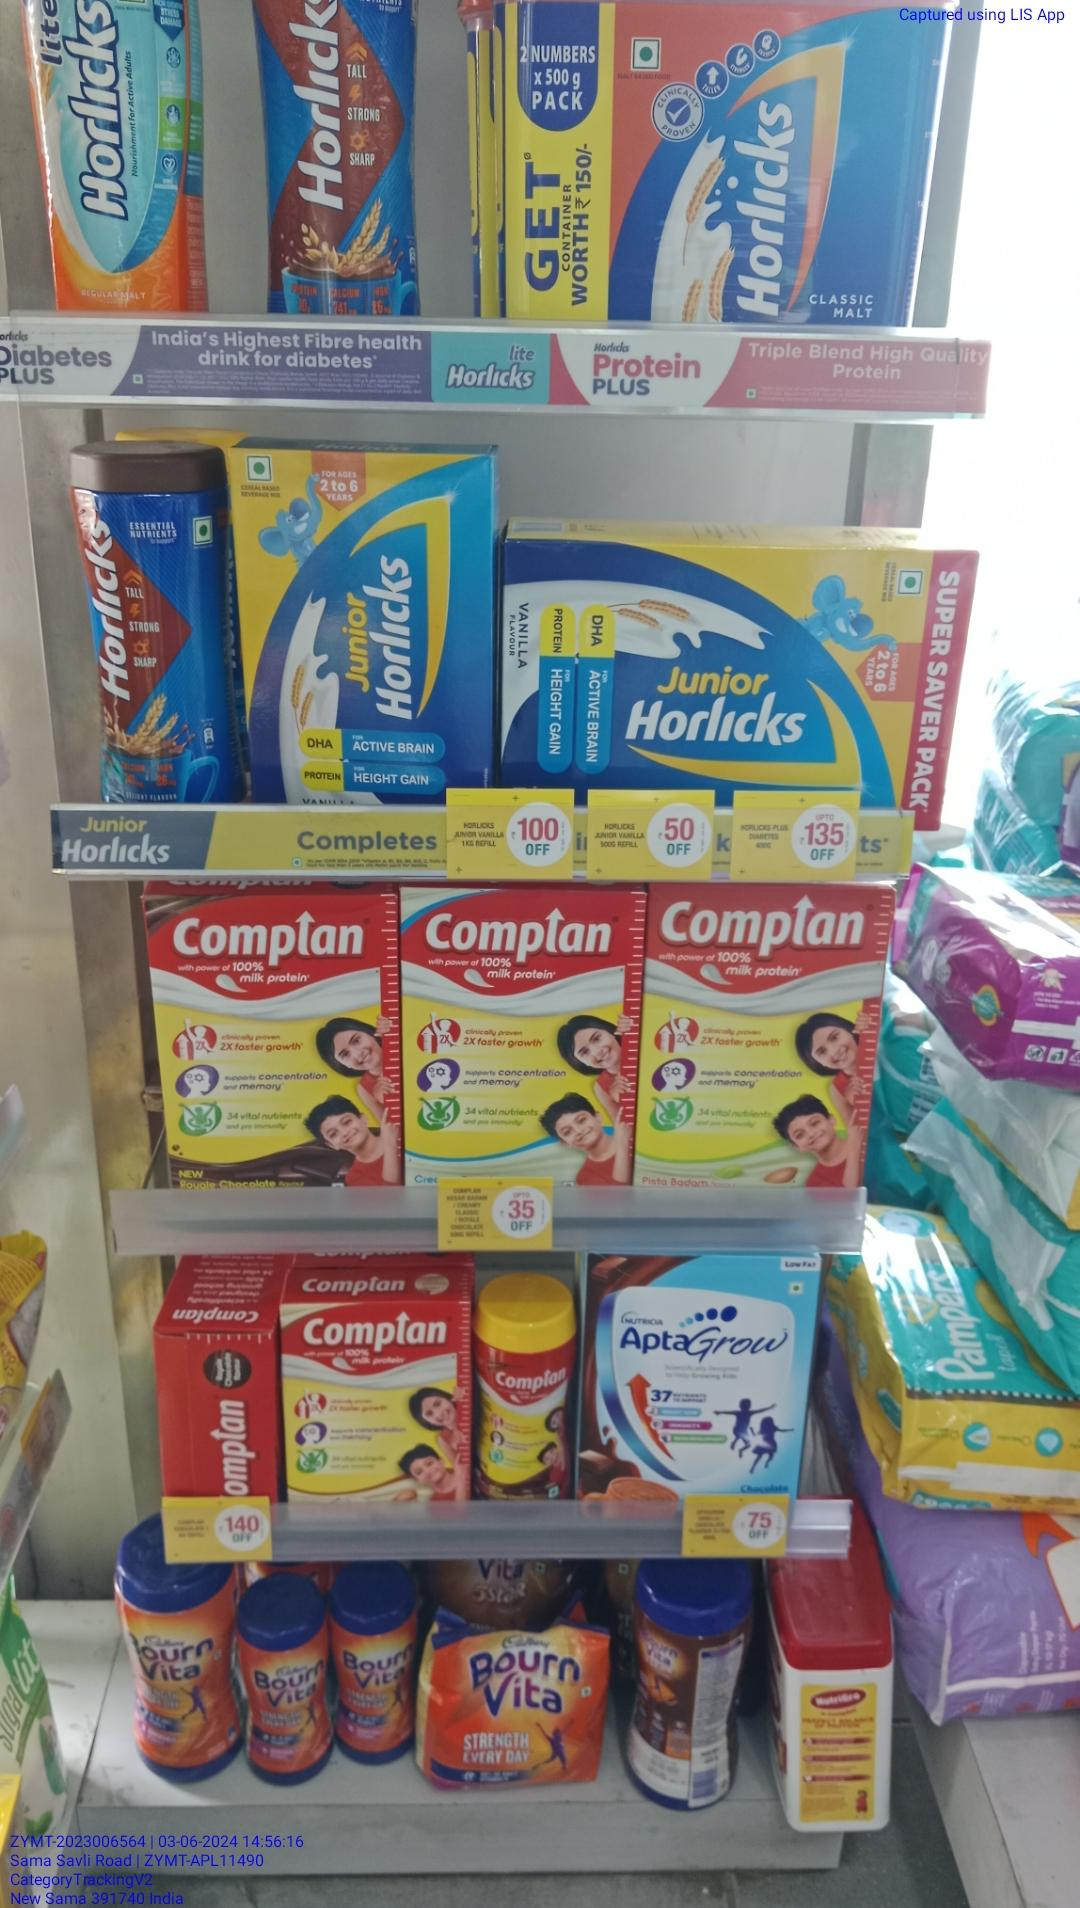BOURN_VITA_1_KG_JAR: (132, 1565, 241, 1787)
BOURN_VITA_500_G_JAR: (245, 1631, 332, 1784), (336, 1604, 413, 1763)
BOURN_VITA_500_G_POUCH: (426, 1620, 609, 1787)
COMPLAN_CHOCOLATE_500_GMS_JAR: (472, 1310, 571, 1499)
COMPLAN_KESAR_BADAM_500_GMS_PACK: (647, 886, 874, 1181), (279, 1305, 472, 1500)
HORLICKS_LITE_REGULAR_MALT_500_GM_JAR: (28, 0, 203, 318)
HORLICK_CHOCOLATE_1_KG_JAR: (76, 452, 216, 810)
HORLICK_CHOCOLATE_500_G_JAR: (250, 0, 423, 320)
HORLICK_MALT_1_KG_CONTAINER: (488, 0, 944, 315)
